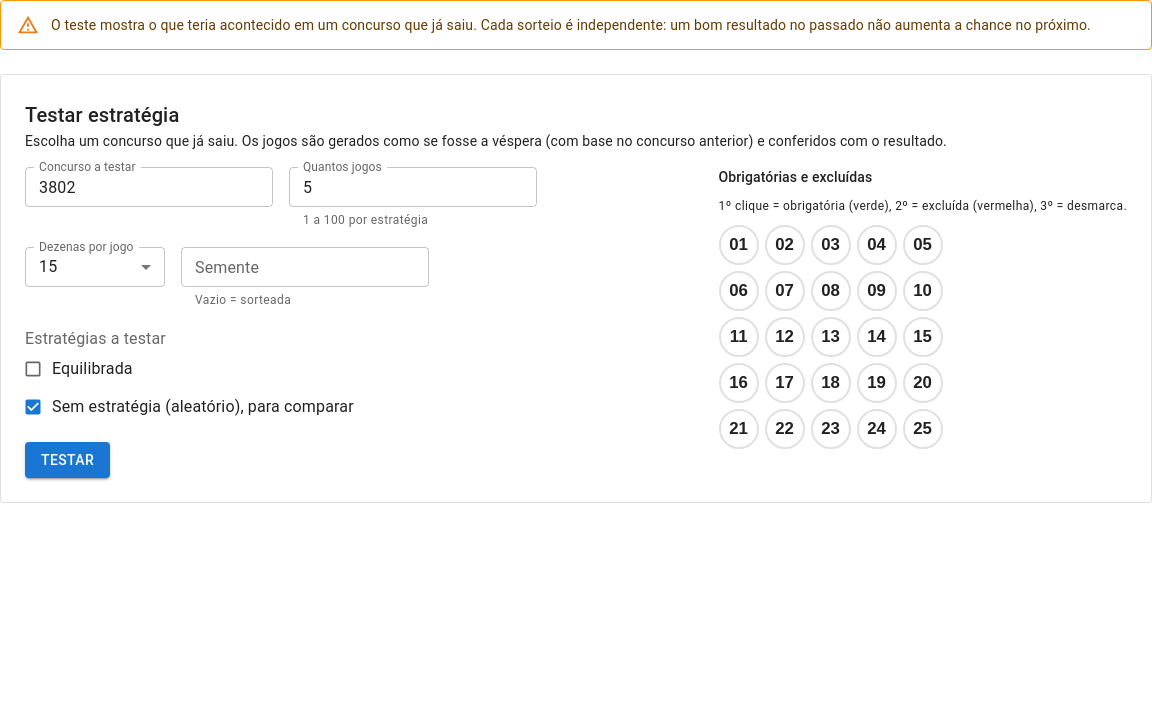
Página Testar estratégia › mostra o erro da API
This screenshot has width=1152, height=720.
Step 1. Replace the text in the field showing "3802" with "9999" → (149, 187), box [25, 167, 273, 207]
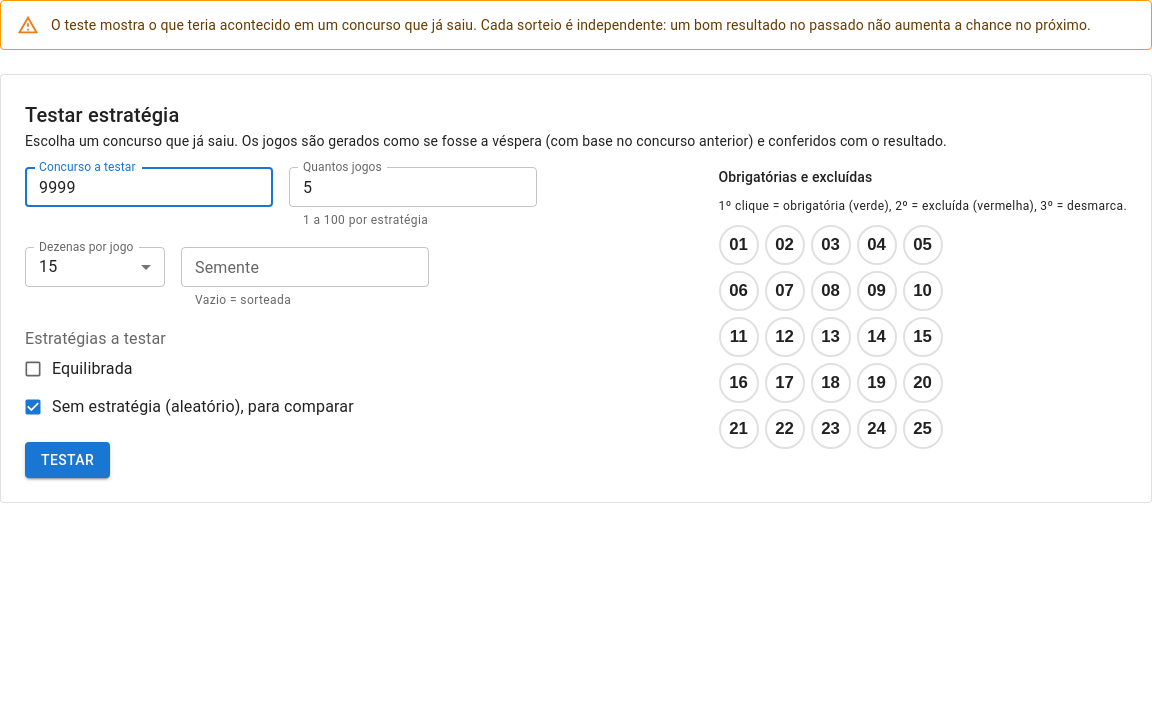
Step 2. Click the button "Testar" → click(68, 460), box [25, 442, 110, 478]
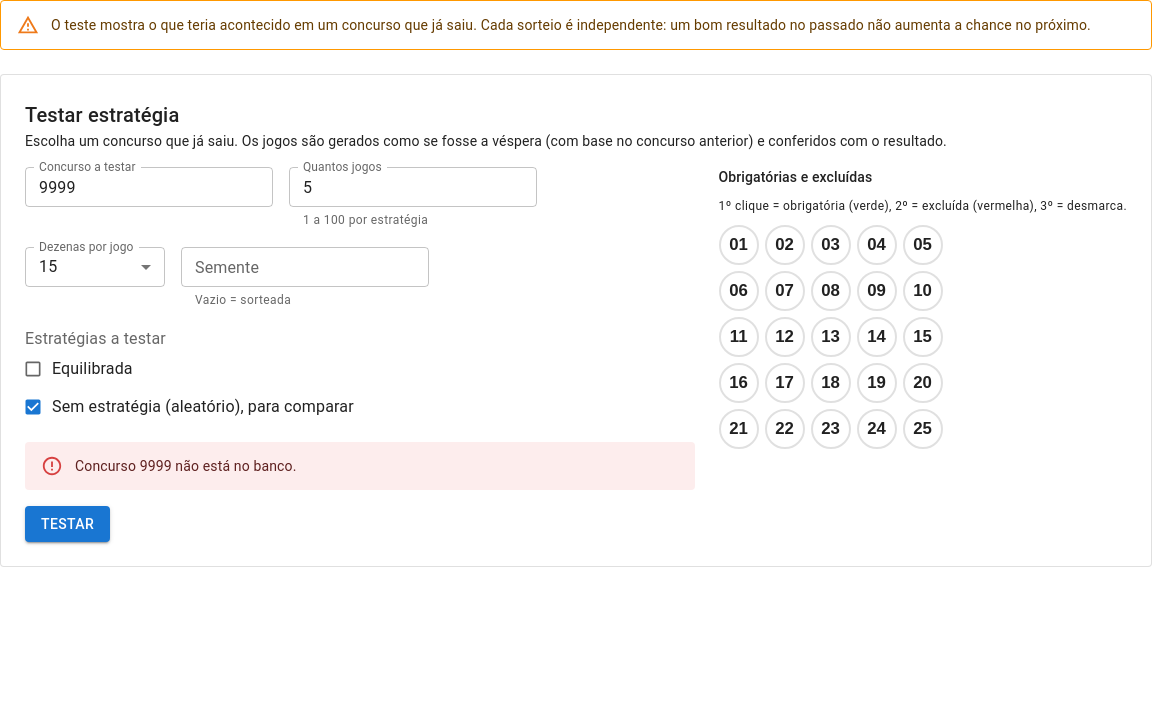
Expected: the text "Concurso 9999 não está no banco." is shown, [75, 458, 297, 474]
